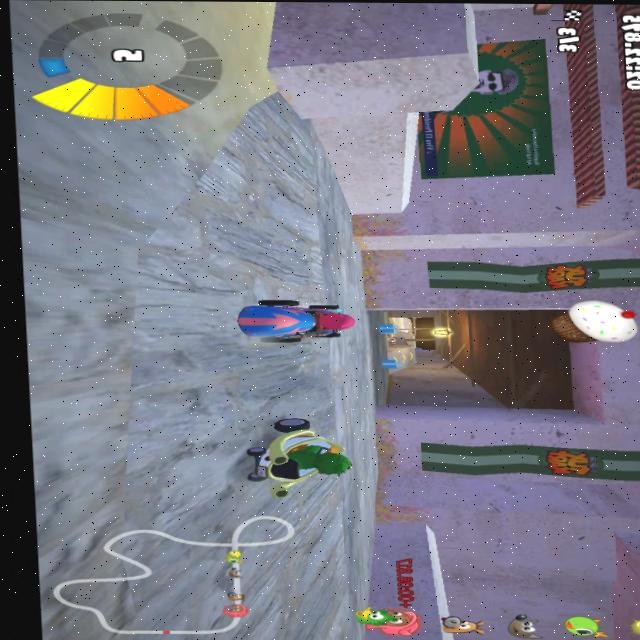bonus: (378, 355, 401, 375), (374, 322, 399, 335)
enemy_kart: (253, 416, 347, 510)
player_kart: (233, 299, 355, 342)
